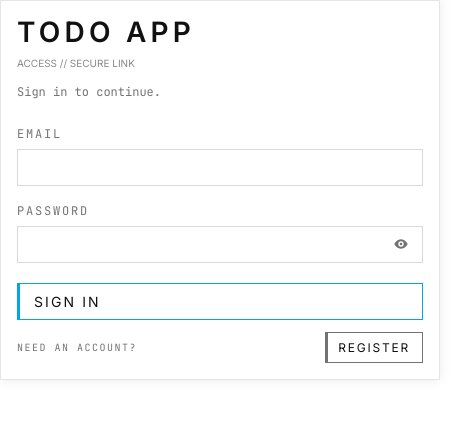
it: auth UI › LoginForm_OnInvalidCredentials_StaysMounted_ShowsServerError
This screenshot has width=458, height=422.
Type "demo@example.com" into the field labelled "Email" at (220, 167), box left=17, top=149, right=423, bottom=186
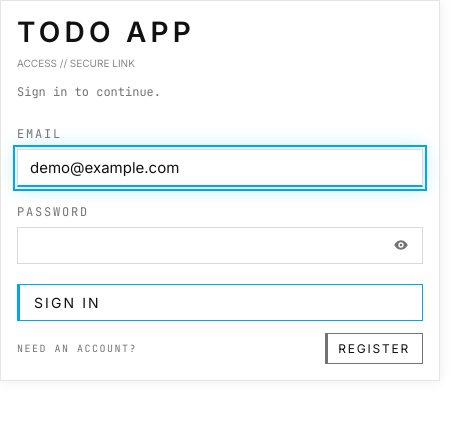
Type "bad-password" into the password field labelled "Password" at (220, 245), box left=17, top=227, right=423, bottom=264
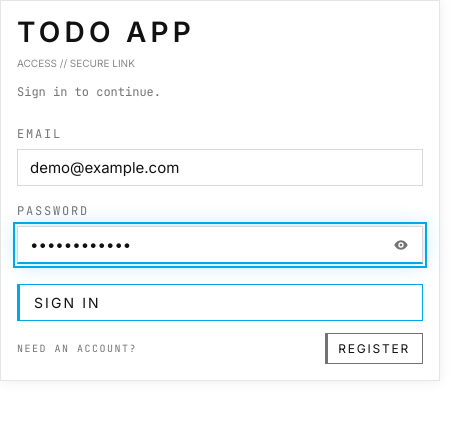
Click the button "Sign in" at (67, 302), box left=17, top=284, right=423, bottom=321
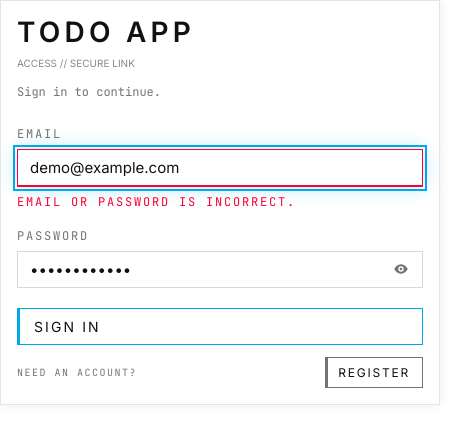
Check: the button "Sign in" is shown, box left=17, top=308, right=423, bottom=345
Check: the text "Email or password is incorrect." is shown, box left=17, top=194, right=296, bottom=210
